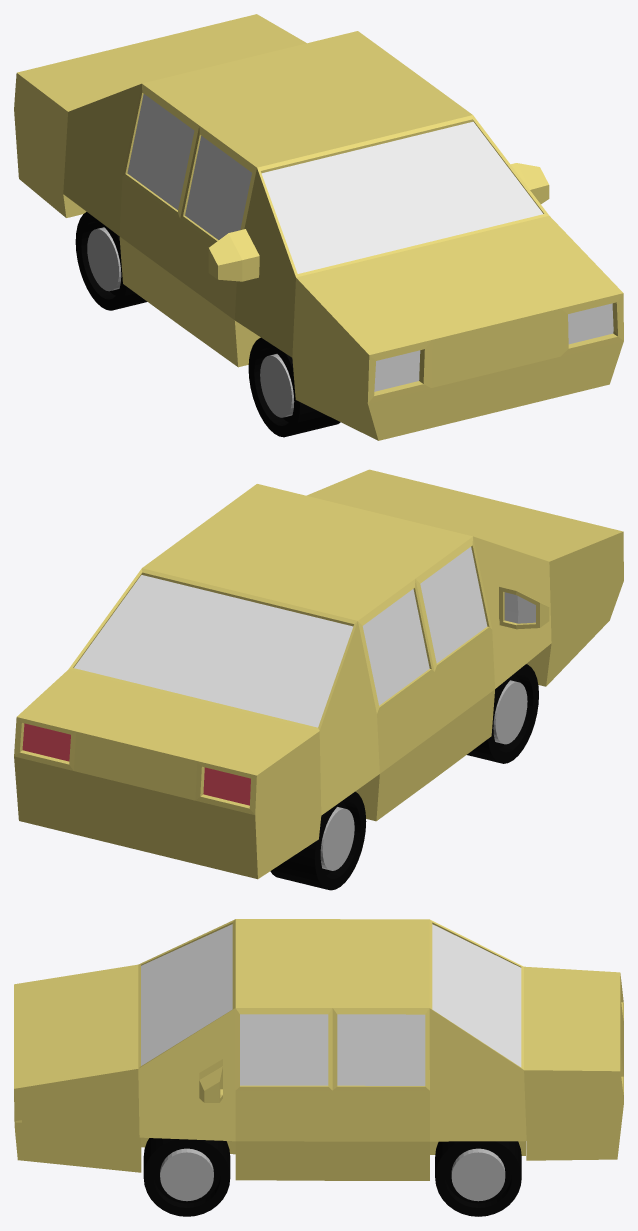
The model's file is Car.fbx.
The picture shows the model from 3 angles, top to bottom: view 1: azimuth 30°, elevation 25°; view 2: azimuth 150°, elevation 25°; view 3: azimuth 270°, elevation 25°; orthographic projection. The views are drawn at different scales.
Parts seen in each view (by area): view 1: car, Cylinder, rearview_mirror; view 2: car, Cylinder, rearview_mirror; view 3: car, Cylinder, rearview_mirror.
Part boxes in pixels (x1,y1,x2,y2): car: (14, 14, 623, 440); Cylinder: (75, 212, 340, 437); rearview_mirror: (208, 163, 549, 281); car: (14, 469, 623, 879); Cylinder: (270, 664, 538, 890); rearview_mirror: (499, 587, 549, 629); car: (14, 919, 623, 1180); Cylinder: (143, 1138, 521, 1216); rearview_mirror: (199, 1059, 222, 1102).
Bounding box in the file's own units: 2.61 × 4.95 × 1.83.
